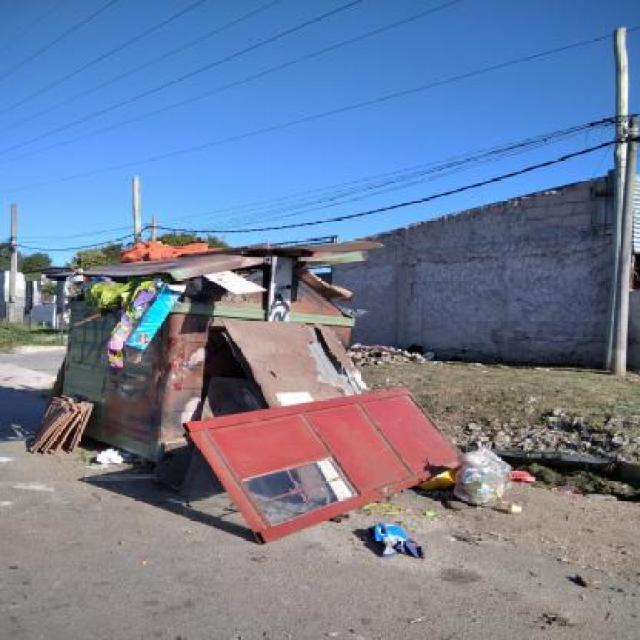garbage: (0, 219, 620, 586)
